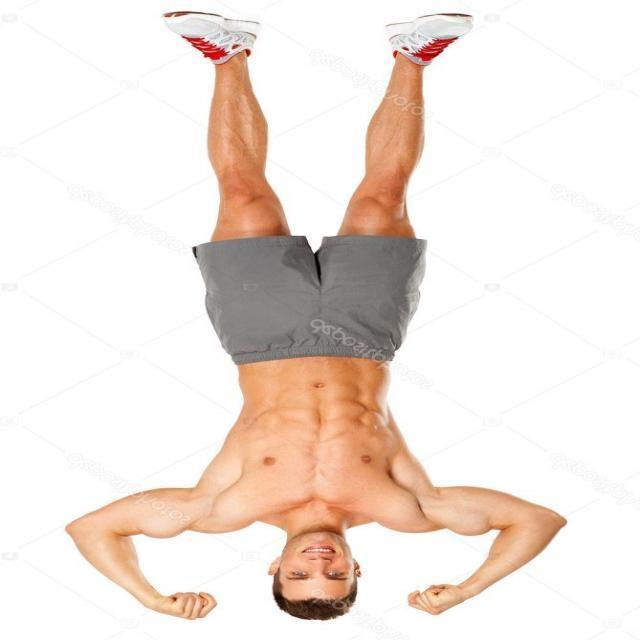no_apron: (404, 568, 464, 616), (158, 582, 214, 618)
